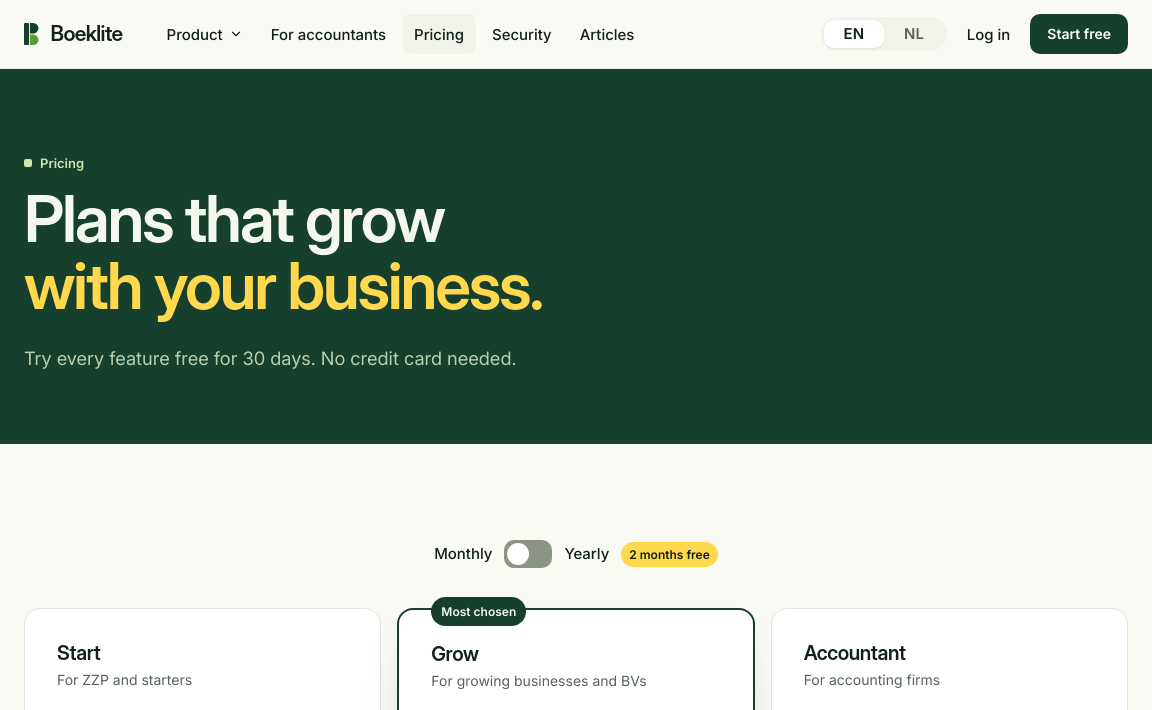
Scenario: the pages › shows the yearly price when billing is switched to yearly
Click the switch with test id "mk-billing" at (528, 554), box [504,540,552,568]
(page scrolled)
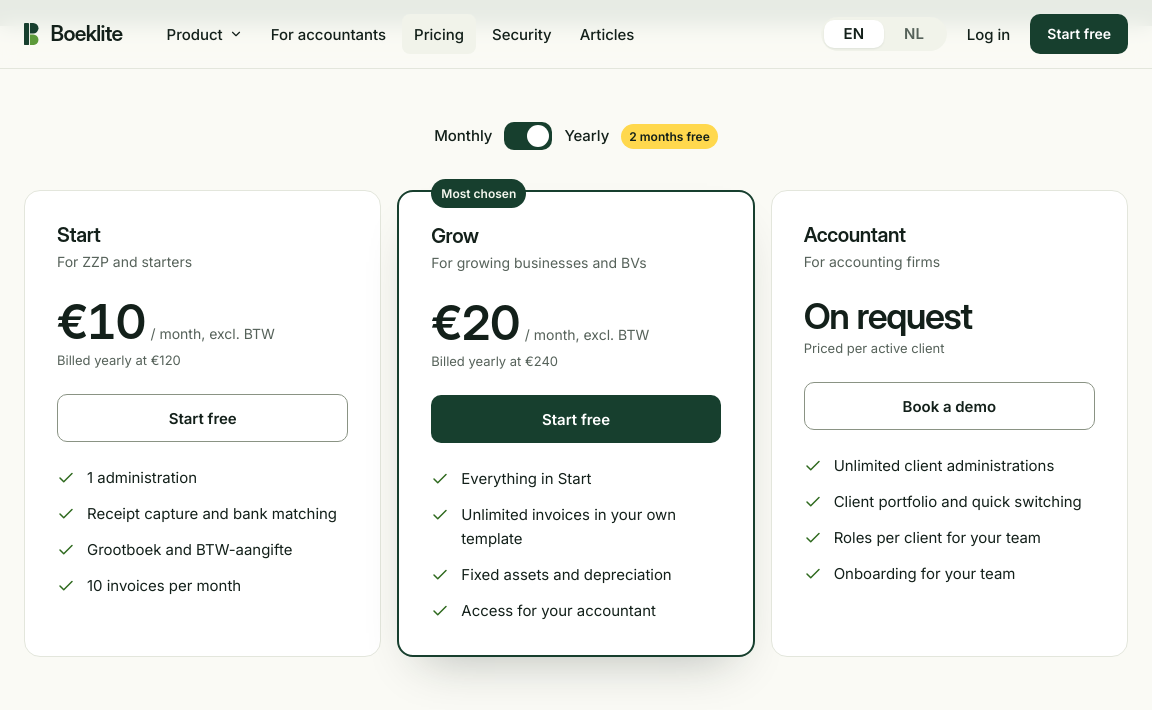
Expected: the text with test id "price-start" reads "€10", [57,292,144,351]
Expected: the text "Billed yearly at €120" is shown, [57,352,181,368]
